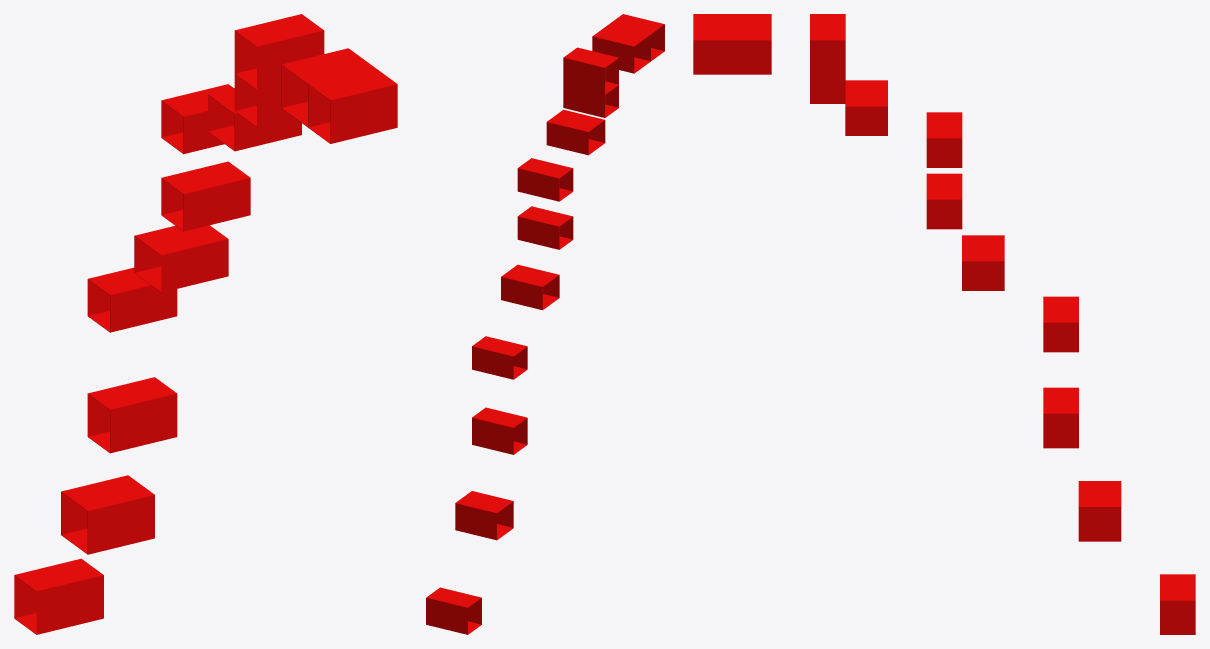
Rendered from cubbyhole_all_combined_recursive.dae.
3 renders of one model, left to right at view 1: azimuth 30°, elevation 25°; view 2: azimuth 150°, elevation 25°; view 3: azimuth 270°, elevation 25°, orthographic. The views are drawn at different scales.
Parts seen in each view (by area): view 1: lower_centercubbyhole_broad_tall (×3), lower_left_cubbyhole_narrow_tall (×3), lower_right_cubbyhole_narrow_tall (×3), lower_centercubbyhole_broad_short (×3), lower_left_cubbyhole_narrow_short (×3), upper_left_cubbyhole_narrow_tall (×2), upper_right_cubbyhole_narrow_tall (×3), lower_right_cubbyhole_narrow_short (×3), upper_centercubbyhole_broad_tall (×3), upper_right_cubbyhole_narrow_short (×3), upper_centercubbyhole_broad_short (×2), upper_left_cubbyhole_narrow_short (×2); view 2: lower_centercubbyhole_broad_tall (×2), upper_right_cubbyhole_narrow_tall (×2), lower_right_cubbyhole_narrow_tall (×2), lower_left_cubbyhole_narrow_tall (×2), upper_centercubbyhole_broad_short (×2), lower_centercubbyhole_broad_short (×2), upper_right_cubbyhole_narrow_short (×2), lower_left_cubbyhole_narrow_short (×2), lower_right_cubbyhole_narrow_short (×2), upper_centercubbyhole_broad_tall (×2), upper_left_cubbyhole_narrow_short, upper_left_cubbyhole_narrow_tall; view 3: lower_centercubbyhole_broad_tall (×2), upper_centercubbyhole_broad_tall (×2), lower_centercubbyhole_broad_short (×2), upper_centercubbyhole_broad_short (×2), lower_left_cubbyhole_narrow_tall (×2), lower_right_cubbyhole_narrow_tall (×2), upper_left_cubbyhole_narrow_tall (×2), upper_right_cubbyhole_narrow_tall (×2), upper_right_cubbyhole_narrow_short (×2), lower_left_cubbyhole_narrow_short (×2), lower_right_cubbyhole_narrow_short (×2), upper_left_cubbyhole_narrow_short.
Part boxes in pixels (x1,y1,x2,y2): lower_centercubbyhole_broad_tall (×3): [61, 475, 154, 554]; lower_left_cubbyhole_narrow_tall (×3): [87, 377, 177, 453]; lower_right_cubbyhole_narrow_tall (×3): [14, 558, 103, 634]; lower_centercubbyhole_broad_short (×3): [134, 225, 228, 292]; lower_left_cubbyhole_narrow_short (×3): [161, 161, 250, 231]; upper_left_cubbyhole_narrow_tall (×2): [308, 68, 397, 143]; upper_right_cubbyhole_narrow_tall (×3): [234, 14, 324, 90]; lower_right_cubbyhole_narrow_short (×3): [87, 267, 177, 332]; upper_centercubbyhole_broad_tall (×3): [281, 48, 374, 127]; upper_right_cubbyhole_narrow_short (×3): [161, 84, 233, 153]; upper_centercubbyhole_broad_short (×2): [208, 95, 301, 151]; upper_left_cubbyhole_narrow_short (×2): [234, 74, 294, 127]; lower_centercubbyhole_broad_tall (×2): [455, 491, 513, 540]; upper_right_cubbyhole_narrow_tall (×2): [563, 47, 618, 94]; lower_right_cubbyhole_narrow_tall (×2): [426, 587, 481, 634]; lower_left_cubbyhole_narrow_tall (×2): [472, 407, 527, 454]; upper_centercubbyhole_broad_short (×2): [546, 109, 604, 155]; lower_centercubbyhole_broad_short (×2): [501, 264, 558, 310]; upper_right_cubbyhole_narrow_short (×2): [517, 158, 572, 201]; lower_left_cubbyhole_narrow_short (×2): [517, 206, 572, 249]; lower_right_cubbyhole_narrow_short (×2): [472, 336, 527, 379]; upper_centercubbyhole_broad_tall (×2): [592, 24, 650, 73]; upper_left_cubbyhole_narrow_short: [563, 85, 605, 117]; upper_left_cubbyhole_narrow_tall: [609, 14, 664, 34]; lower_centercubbyhole_broad_tall (×2): [1078, 481, 1121, 541]; upper_centercubbyhole_broad_tall (×2): [729, 14, 771, 74]; lower_centercubbyhole_broad_short (×2): [962, 235, 1004, 290]; upper_centercubbyhole_broad_short (×2): [845, 80, 887, 135]; lower_left_cubbyhole_narrow_tall (×2): [1043, 387, 1078, 447]; lower_right_cubbyhole_narrow_tall (×2): [1160, 574, 1195, 634]; upper_left_cubbyhole_narrow_tall (×2): [693, 14, 728, 74]; upper_right_cubbyhole_narrow_tall (×2): [810, 14, 845, 74]; upper_right_cubbyhole_narrow_short (×2): [926, 112, 962, 167]; lower_left_cubbyhole_narrow_short (×2): [926, 173, 962, 229]; lower_right_cubbyhole_narrow_short (×2): [1043, 296, 1078, 352]; upper_left_cubbyhole_narrow_short: [810, 74, 845, 103].
Size of the model in its own units: 0.4328 by 3.53 by 4.61.
